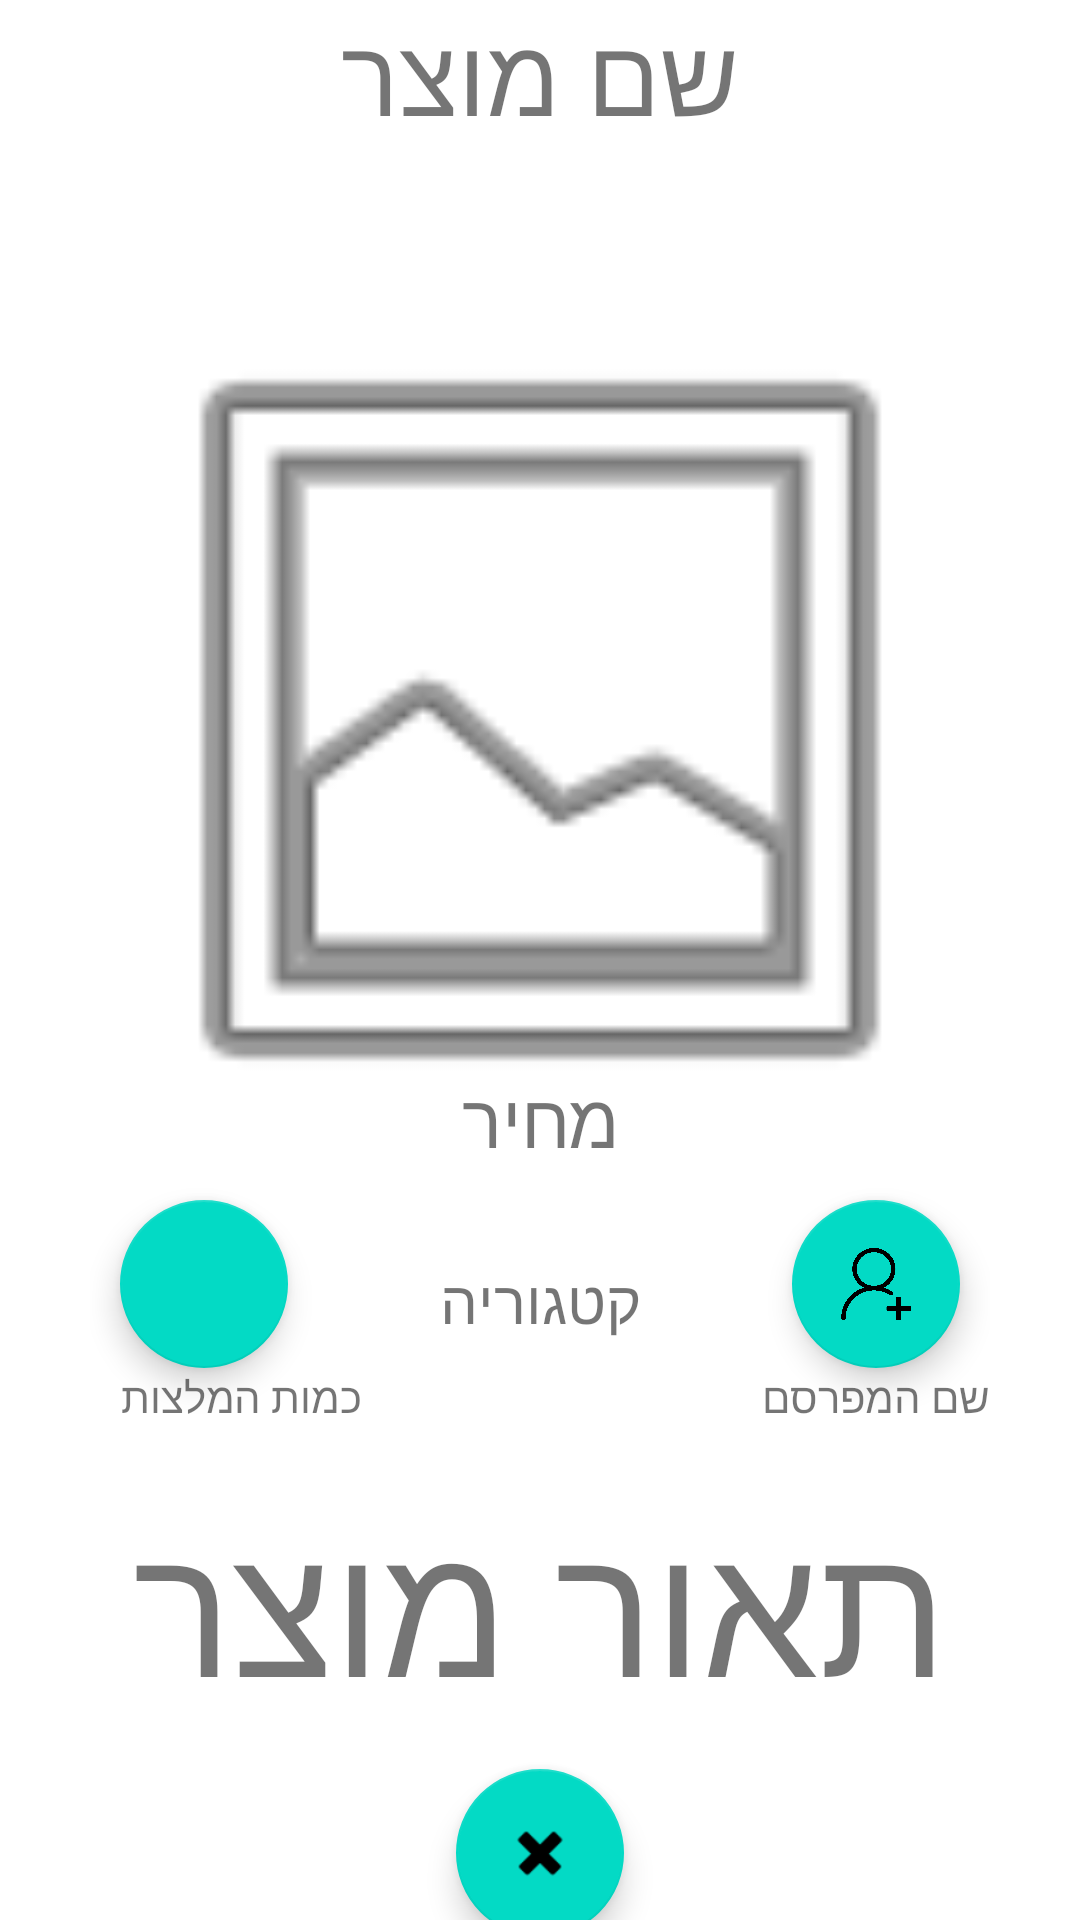

Screen size 1080px x 1920px. Icon name, then its box in pixels as rect(x1, y1, x2, y2):
followplus: rect(792, 1200, 960, 1368)
